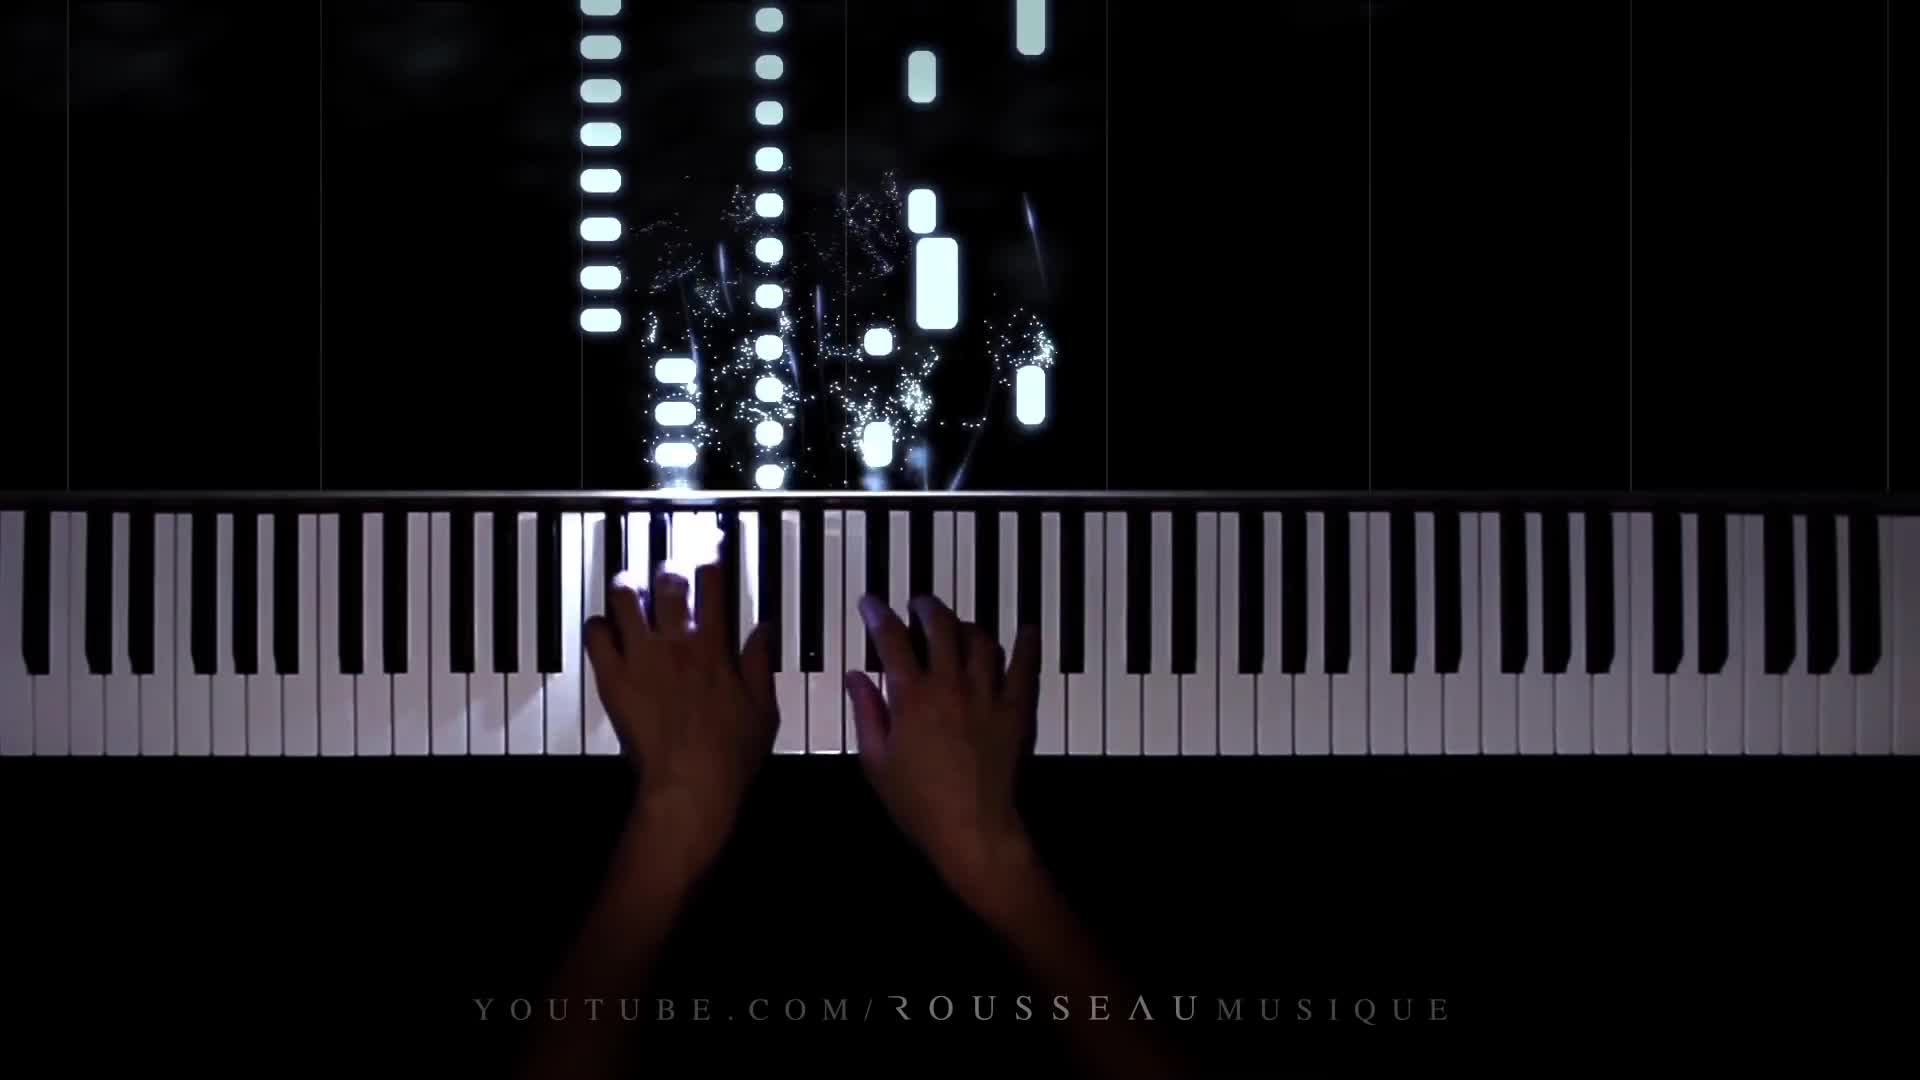left: (585, 535, 779, 803)
right: (845, 580, 1042, 835)
